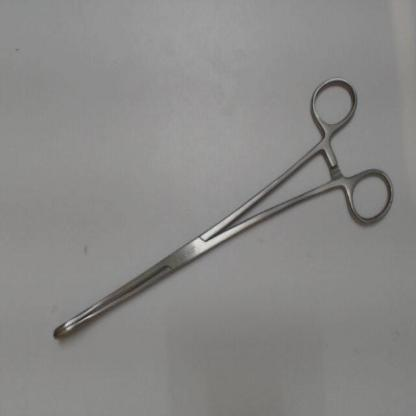Sponge Forceps: (42, 68, 404, 351)
